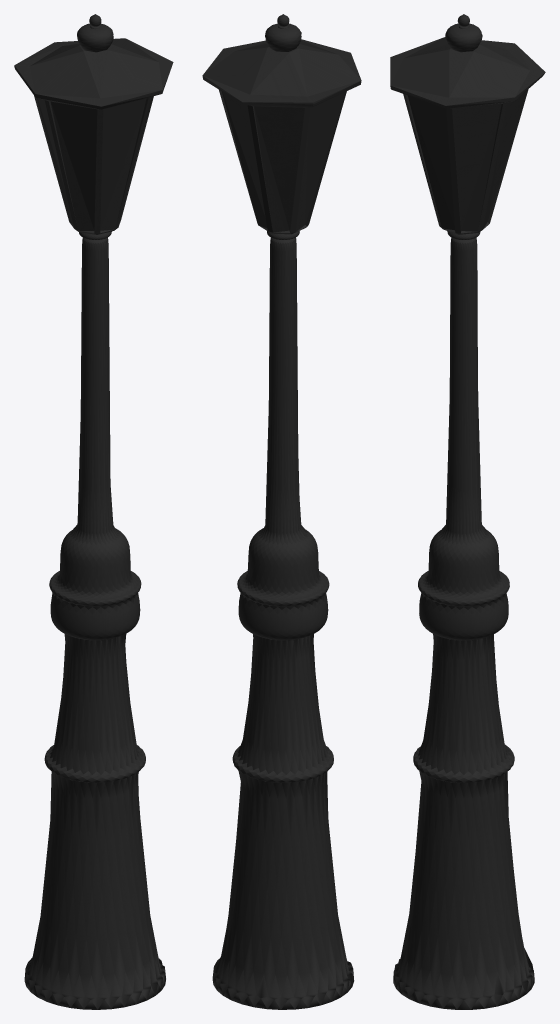
The model's file is lamparaTextura.obj.
3 renders of one model, left to right at view 1: azimuth 30°, elevation 25°; view 2: azimuth 150°, elevation 25°; view 3: azimuth 270°, elevation 25°, orthographic.
Visible parts, largest first — view 1: Cylinder_002; view 2: Cylinder_002; view 3: Cylinder_002.
Boxes of the visible parts, box(x1,y1,x2,y2) form: Cylinder_002: box(14, 14, 173, 1009); Cylinder_002: box(202, 14, 361, 1009); Cylinder_002: box(390, 14, 545, 1009).
Bounding box in the file's own units: 0.3596 × 2.4 × 0.3505.
